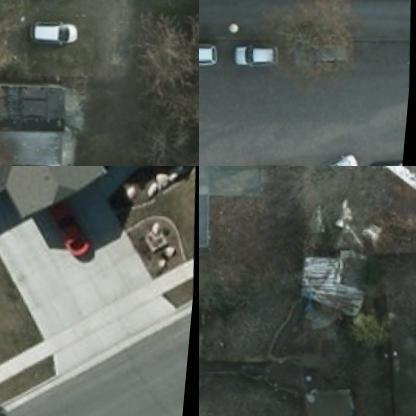car: (46, 193, 102, 254), (304, 24, 360, 60), (27, 12, 86, 45), (238, 32, 284, 68), (324, 143, 369, 165), (199, 36, 225, 71), (245, 154, 305, 165), (371, 148, 407, 165)
